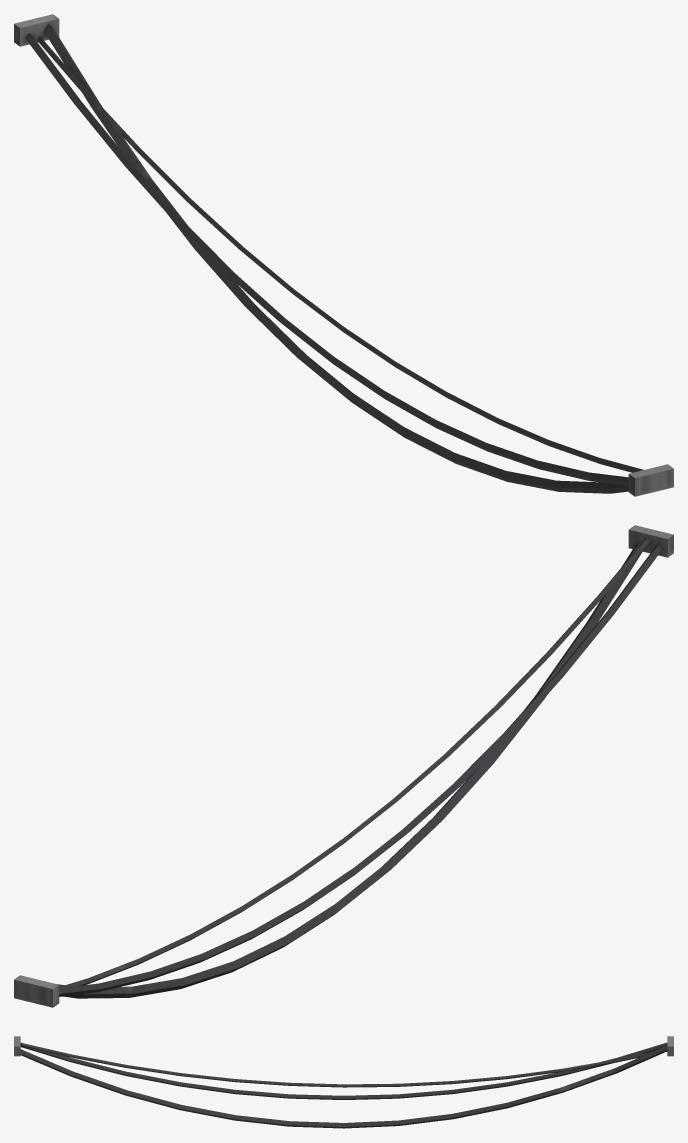
The model's file is nodexeus-set-run-cable.glb.
3 renders of one model, top to bottom at view 1: azimuth 30°, elevation 25°; view 2: azimuth 150°, elevation 25°; view 3: azimuth 270°, elevation 25°, orthographic. The views are drawn at different scales.
Visible parts, largest first — view 1: set-run-cable; view 2: set-run-cable; view 3: set-run-cable.
Boxes of the visible parts, x1,y1,x2,y2 form: set-run-cable: [14, 14, 673, 496]; set-run-cable: [14, 525, 673, 1007]; set-run-cable: [14, 1036, 673, 1128].
Size of the model in its own units: 0.22 by 0.858 by 6.06.
1 material, 1 textured.
